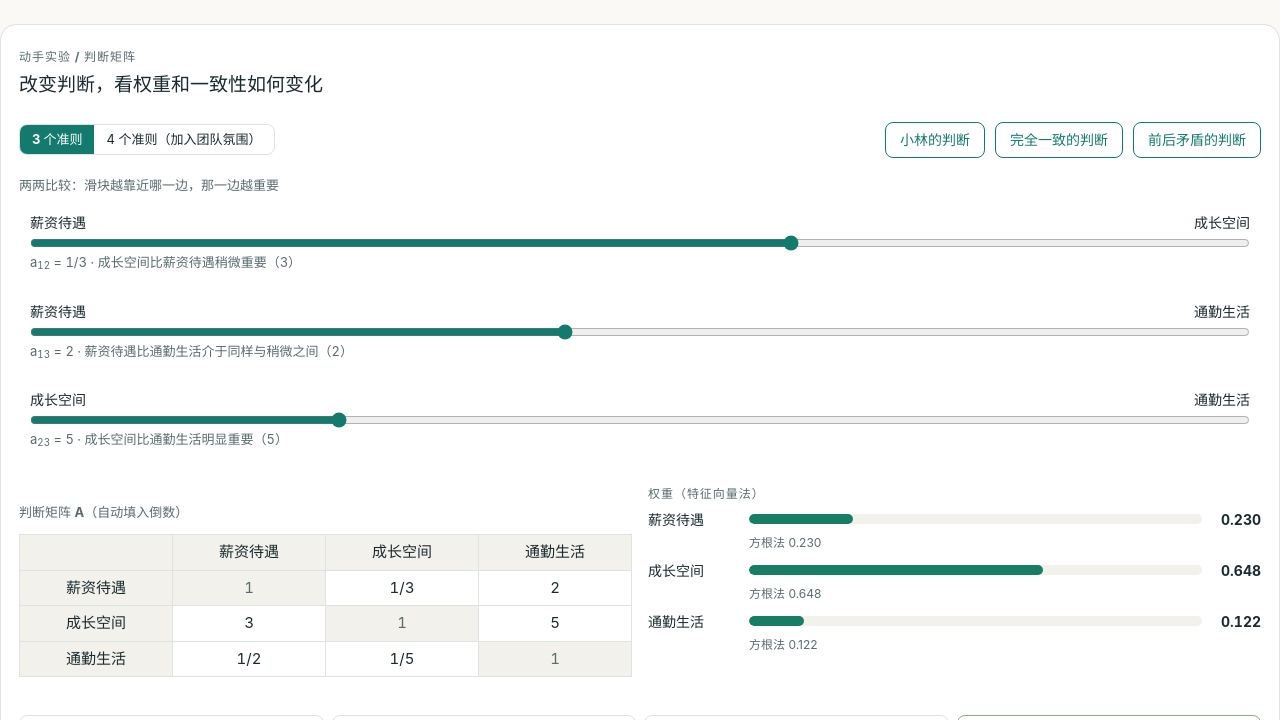
Test: 判断矩阵实验 › switches to four criteria with RI(4) = 0.90 and six comparisons
This screenshot has width=1280, height=720.
Click the button "4 个准则".
click(184, 140)  # box x1=94 y1=125 x2=274 y2=154
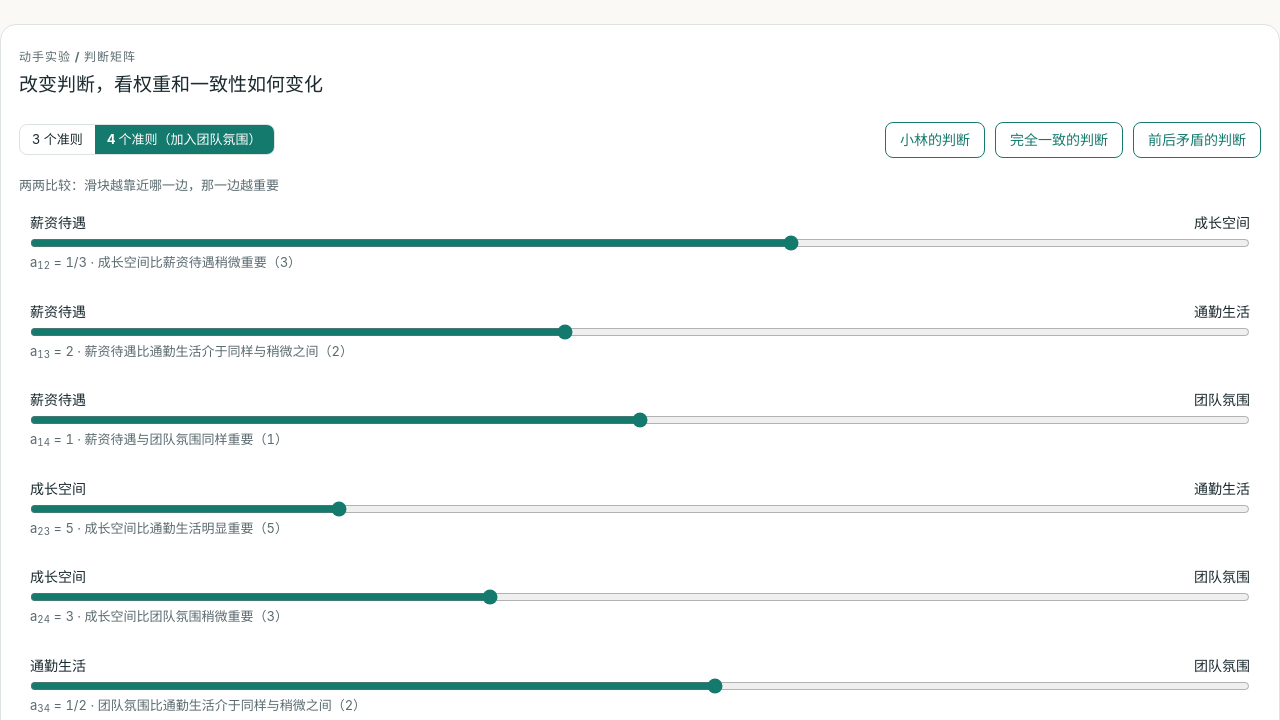
Expected: the number of sliders is 6, x1=30 y1=235 x2=1250 y2=251; x1=30 y1=324 x2=1250 y2=340; x1=30 y1=412 x2=1250 y2=428; x1=30 y1=500 x2=1250 y2=516; x1=30 y1=589 x2=1250 y2=605; x1=30 y1=678 x2=1250 y2=694
Click the button "前后矛盾的判断".
click(1197, 140)  # box x1=1133 y1=122 x2=1261 y2=158
(page scrolled)
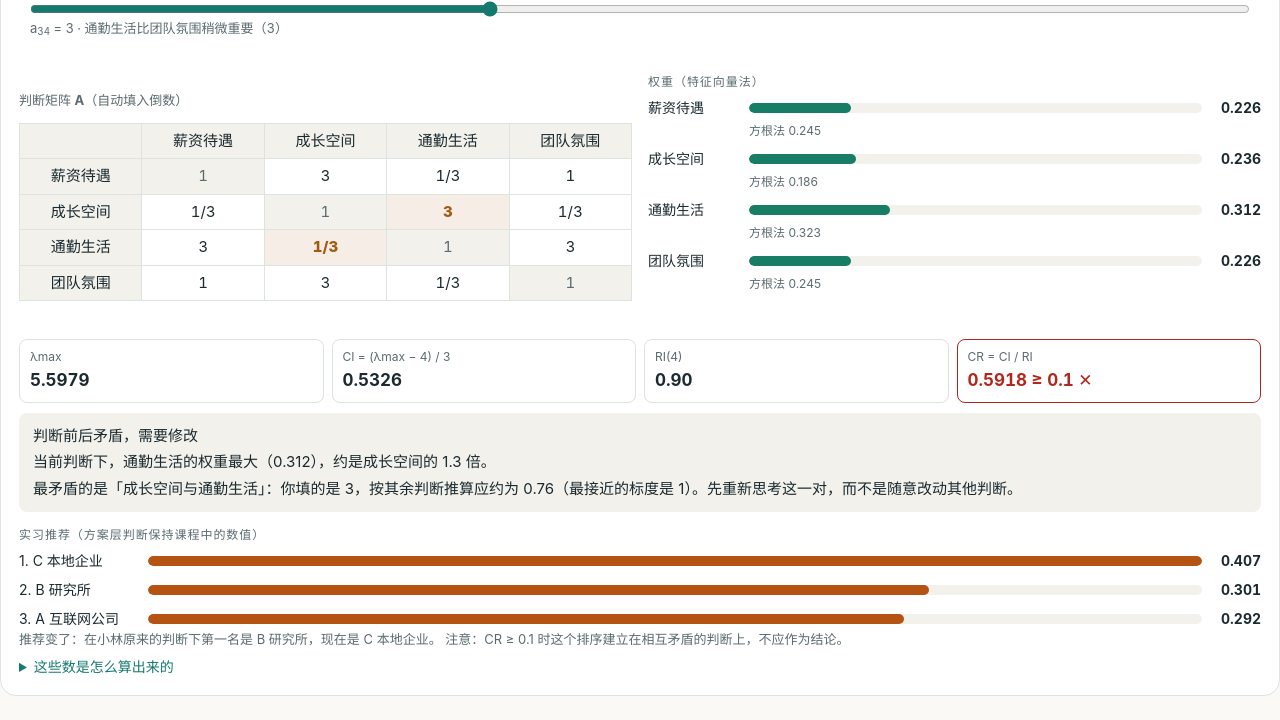
Expected: the text "最矛盾的是" shows "最接近的标度", x1=554 y1=478 x2=678 y2=498
